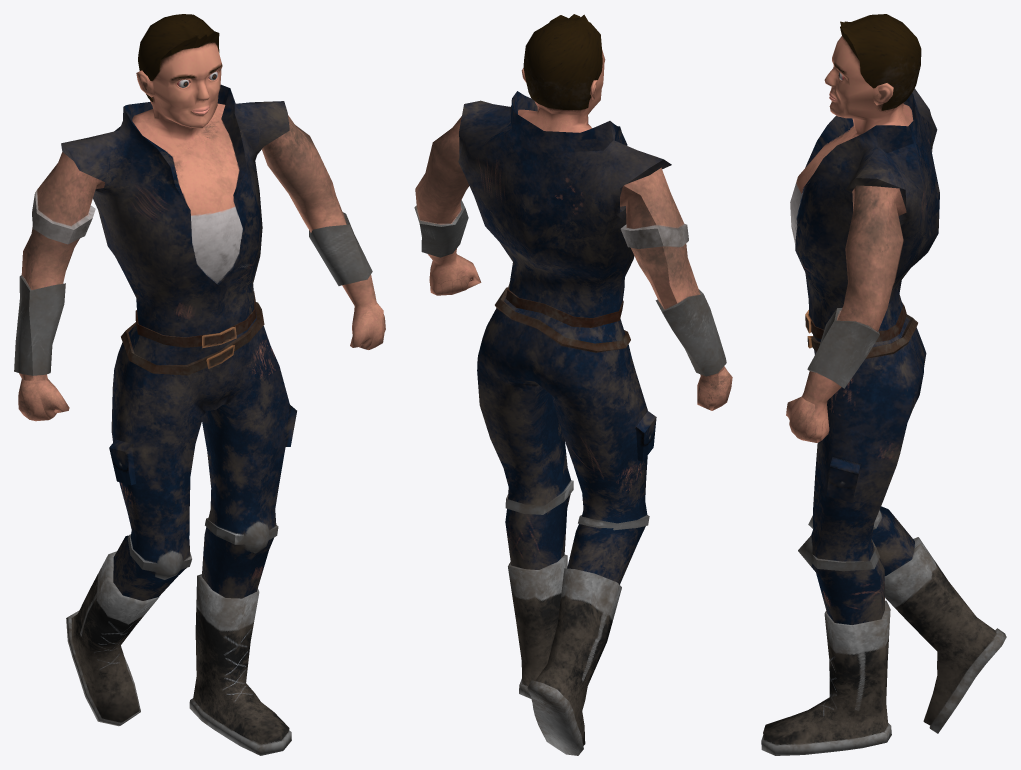
The model's file is Anim_andar_jugador.0036.obj.
3 renders of one model, left to right at view 1: azimuth 30°, elevation 25°; view 2: azimuth 150°, elevation 25°; view 3: azimuth 270°, elevation 25°, orthographic. The views are drawn at different scales.
Parts seen in each view (by area): view 1: Anim_andar_jugador; view 2: Anim_andar_jugador; view 3: Anim_andar_jugador.
Part boxes in pixels (x1,y1,x2,y2): Anim_andar_jugador: (14,14,385,755); Anim_andar_jugador: (414,14,732,755); Anim_andar_jugador: (761,14,1006,755).
Size of the model in its own units: 4.8 by 9.88 by 3.01.
Materials: 2 (2 with a texture image).
